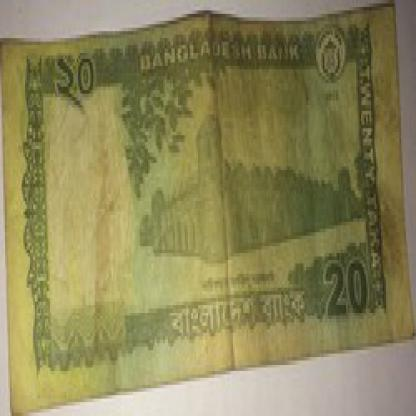Twenty: (316, 215, 371, 340), (57, 41, 112, 118)
